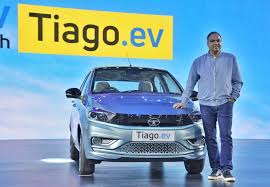Tiago: (62, 63, 207, 182)
